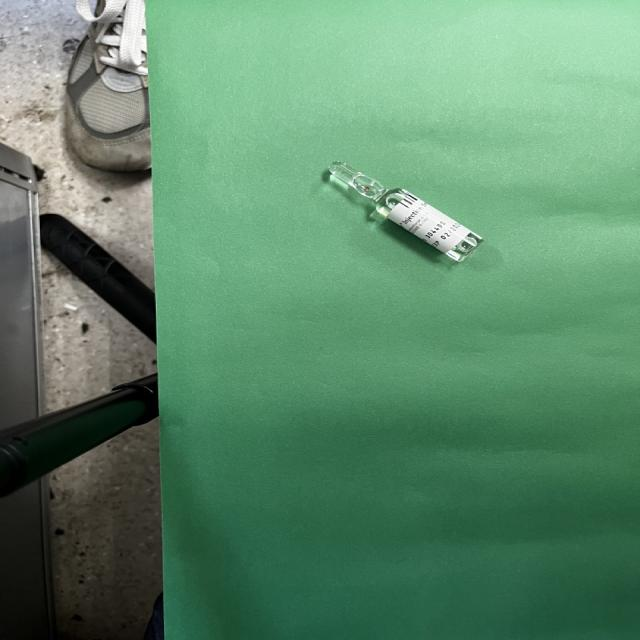Ampoules: (329, 162, 482, 262)
